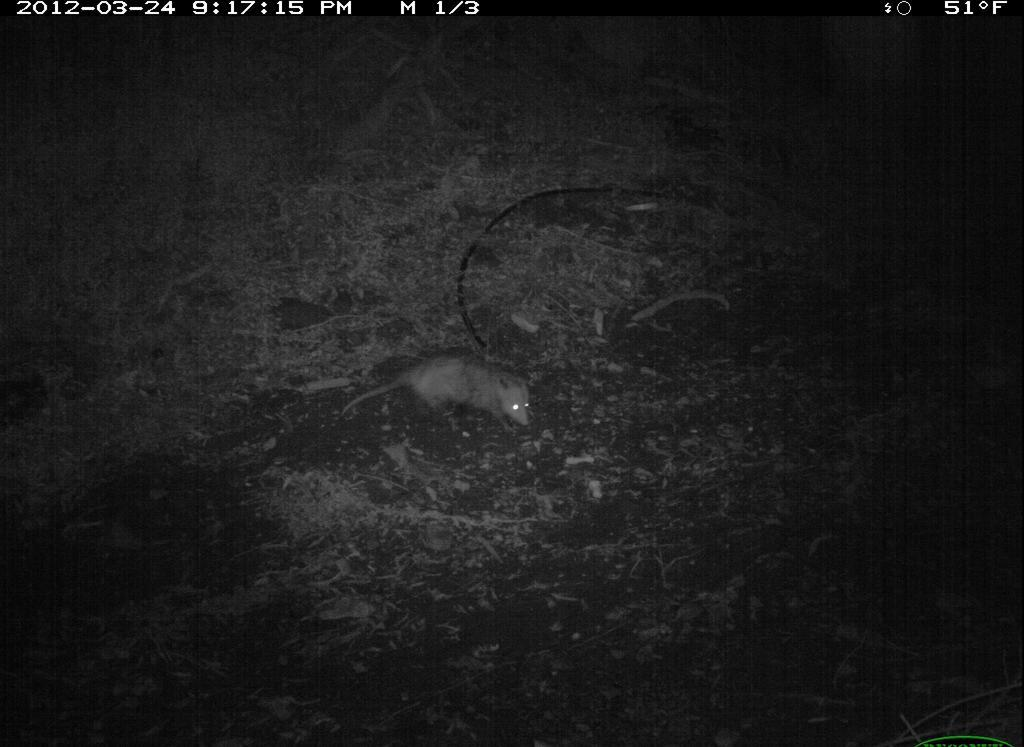opossum: (336, 345, 537, 442)
